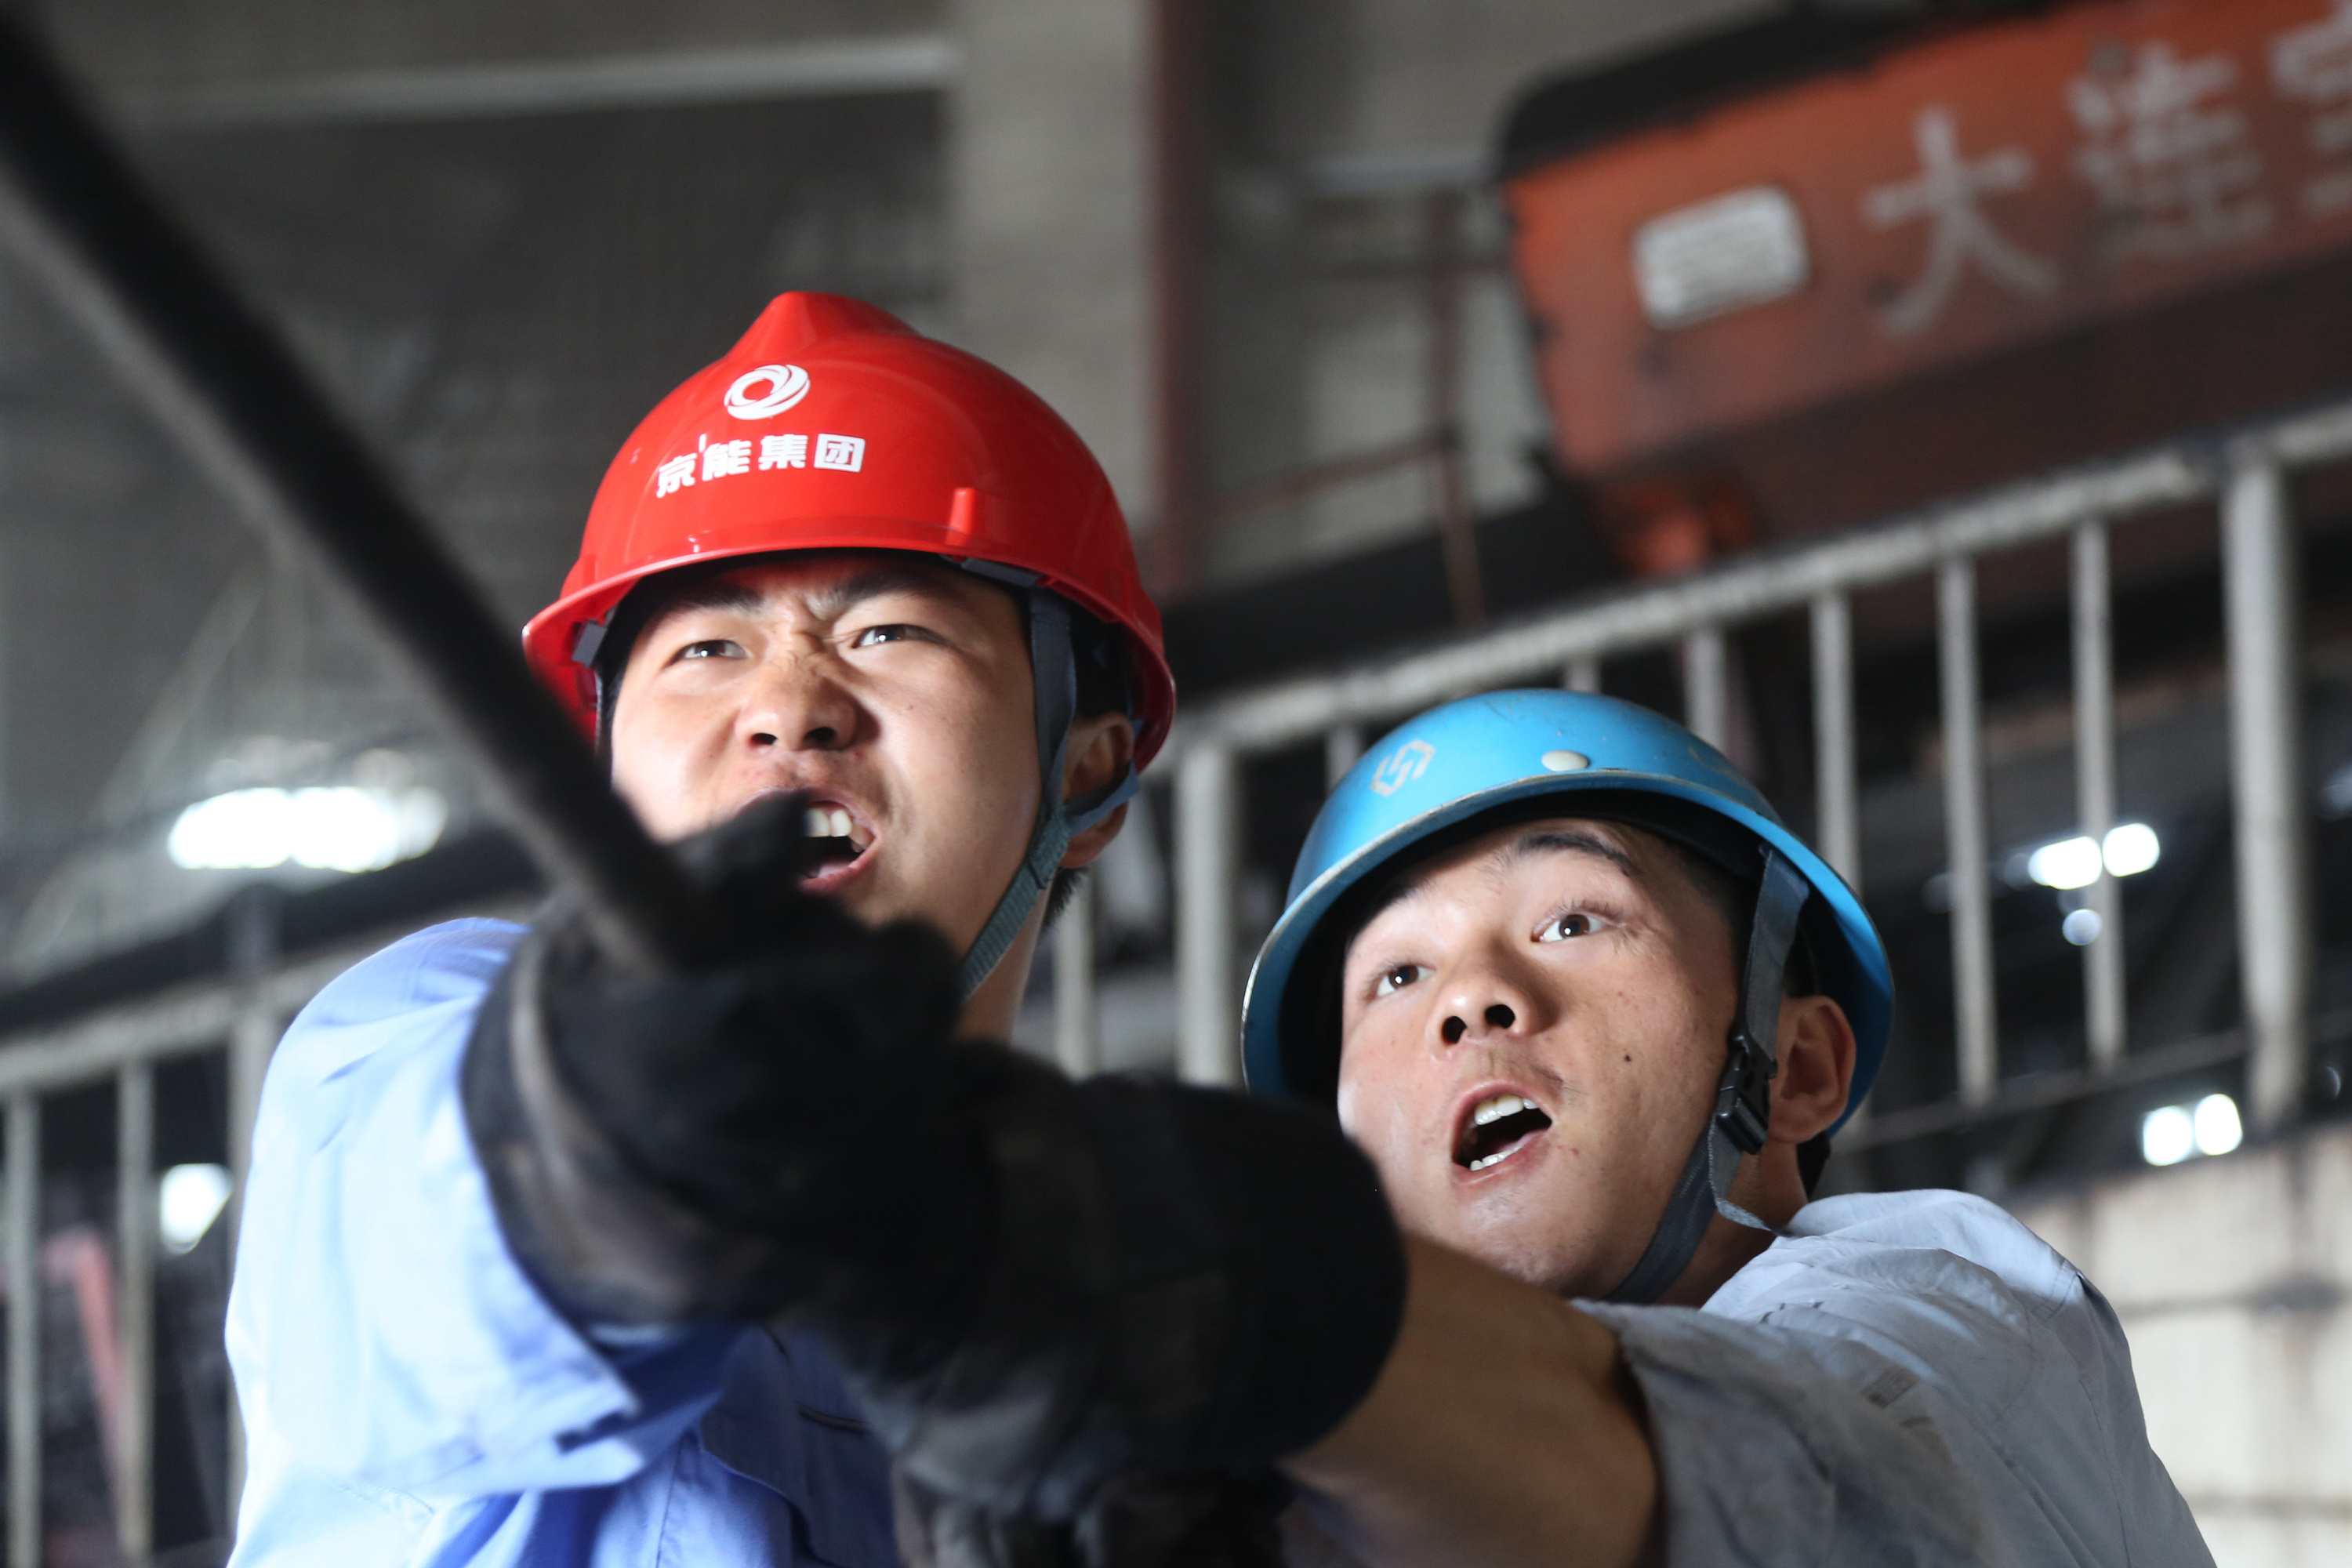safetyhat: (339, 140, 1178, 1568), (1234, 585, 2168, 1568)
